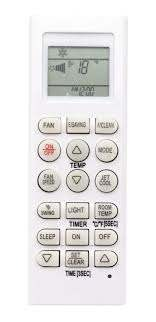remote control: (32, 18, 123, 303)
